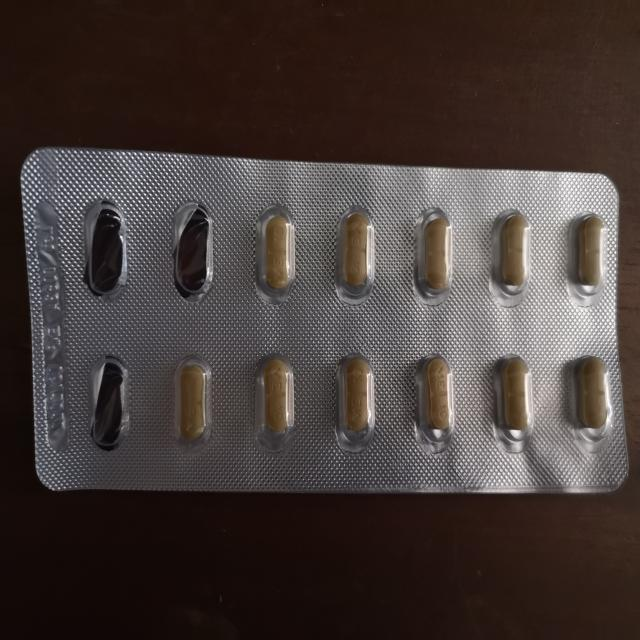Empty: (166, 197, 220, 305), (78, 194, 130, 302), (86, 352, 134, 455)
Pill: (252, 198, 300, 306), (411, 349, 459, 455), (407, 202, 455, 306), (332, 348, 379, 454), (250, 350, 298, 452), (488, 350, 537, 448), (485, 205, 533, 305), (331, 202, 377, 305), (567, 350, 613, 451), (169, 353, 212, 452), (566, 206, 606, 300)
